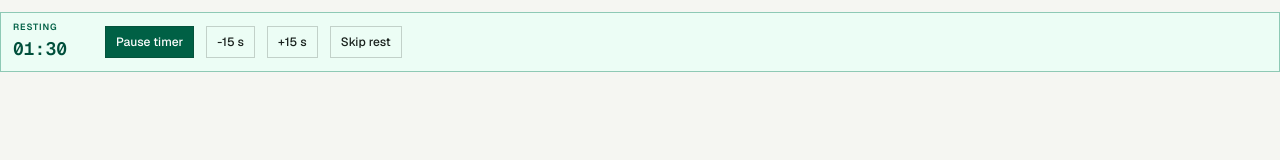
Test: RestTimer auto start › lets the user skip the rest and then start it again by hand
Click the button "Skip rest": (366, 42) [330, 26, 402, 58]
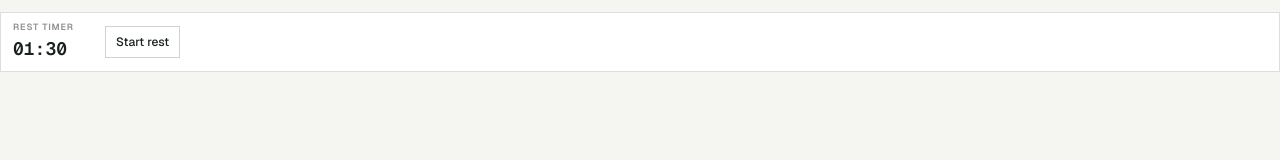
Expected: the text "01:30" is shown, [13, 36, 67, 60]
Now the text "Resting" is gone
Click the button "Start rest": (143, 42) [105, 26, 180, 58]
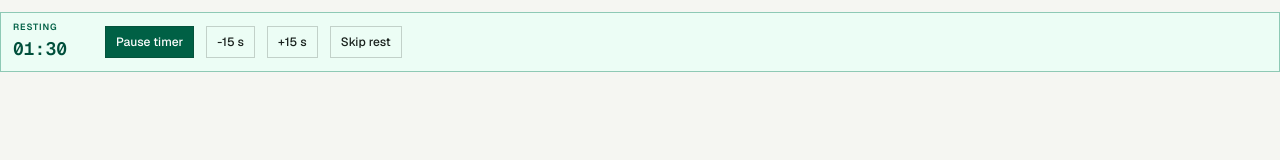
Now the text "Resting" is shown, box [13, 21, 57, 33]
